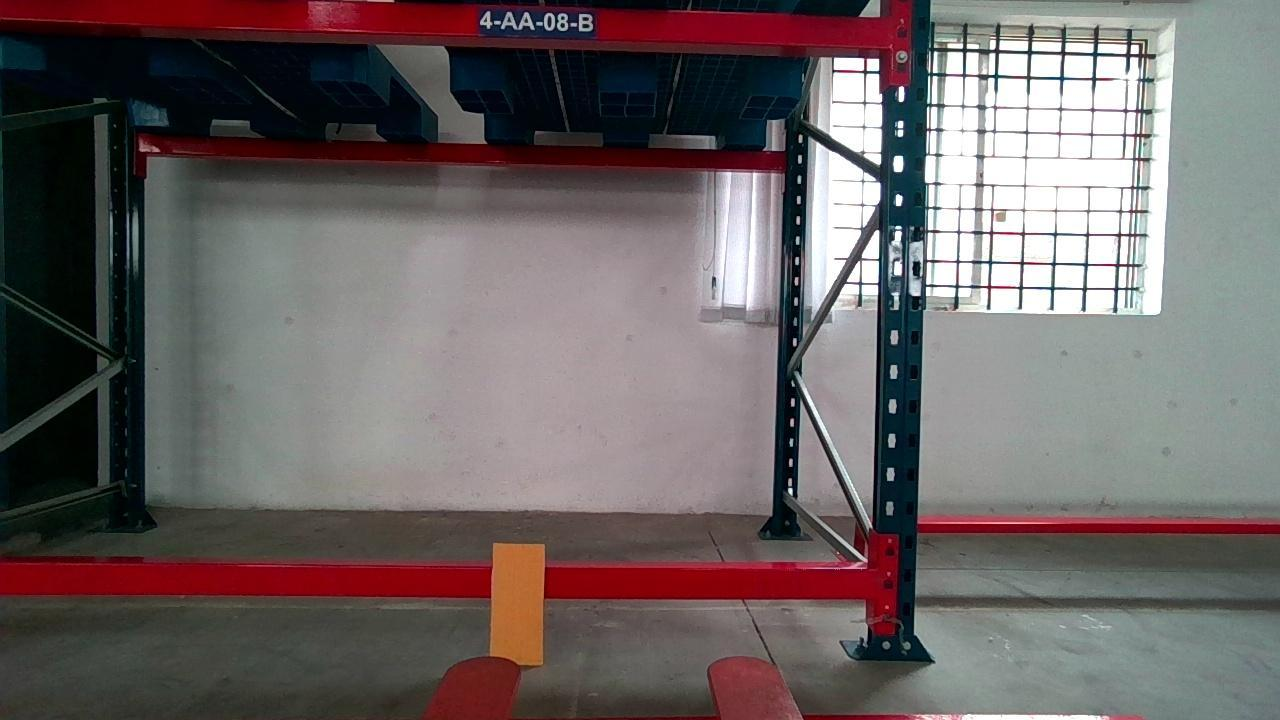h_rack: (1, 0, 893, 50), (1, 564, 881, 596)
orange_strip: (490, 543, 543, 666)
